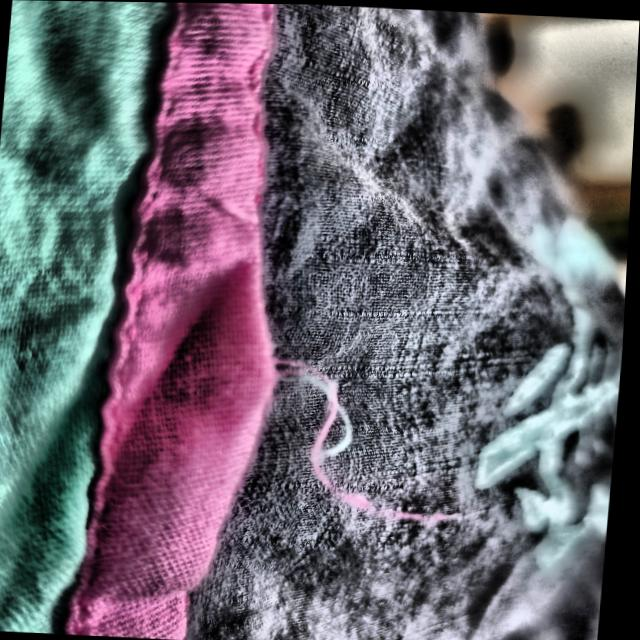Stitch: (210, 299, 516, 558)
